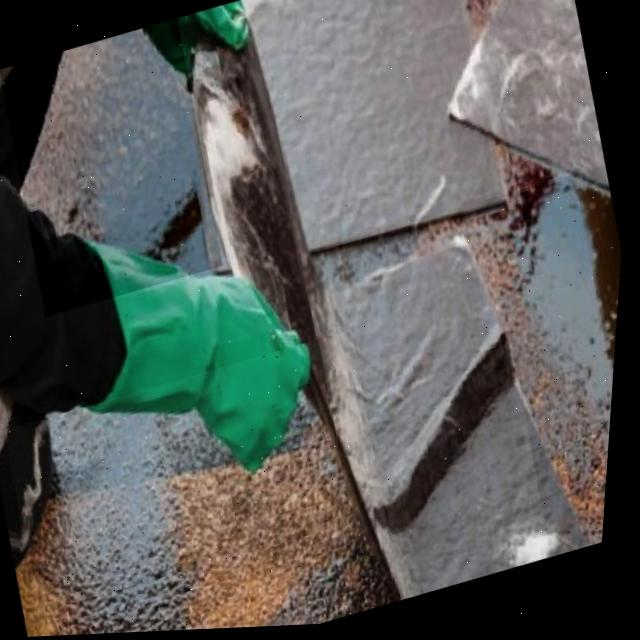spillage: (37, 403, 409, 637), (25, 29, 208, 273), (513, 181, 625, 551)
